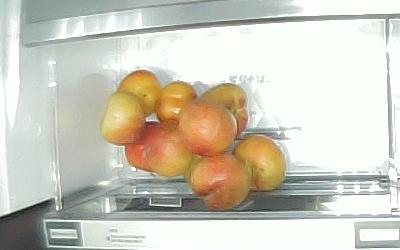prune: (190, 153, 252, 211), (178, 99, 237, 156), (144, 118, 194, 177), (234, 134, 285, 191), (196, 83, 248, 136), (101, 93, 145, 145), (117, 69, 160, 117), (125, 121, 160, 173), (155, 81, 197, 124)
